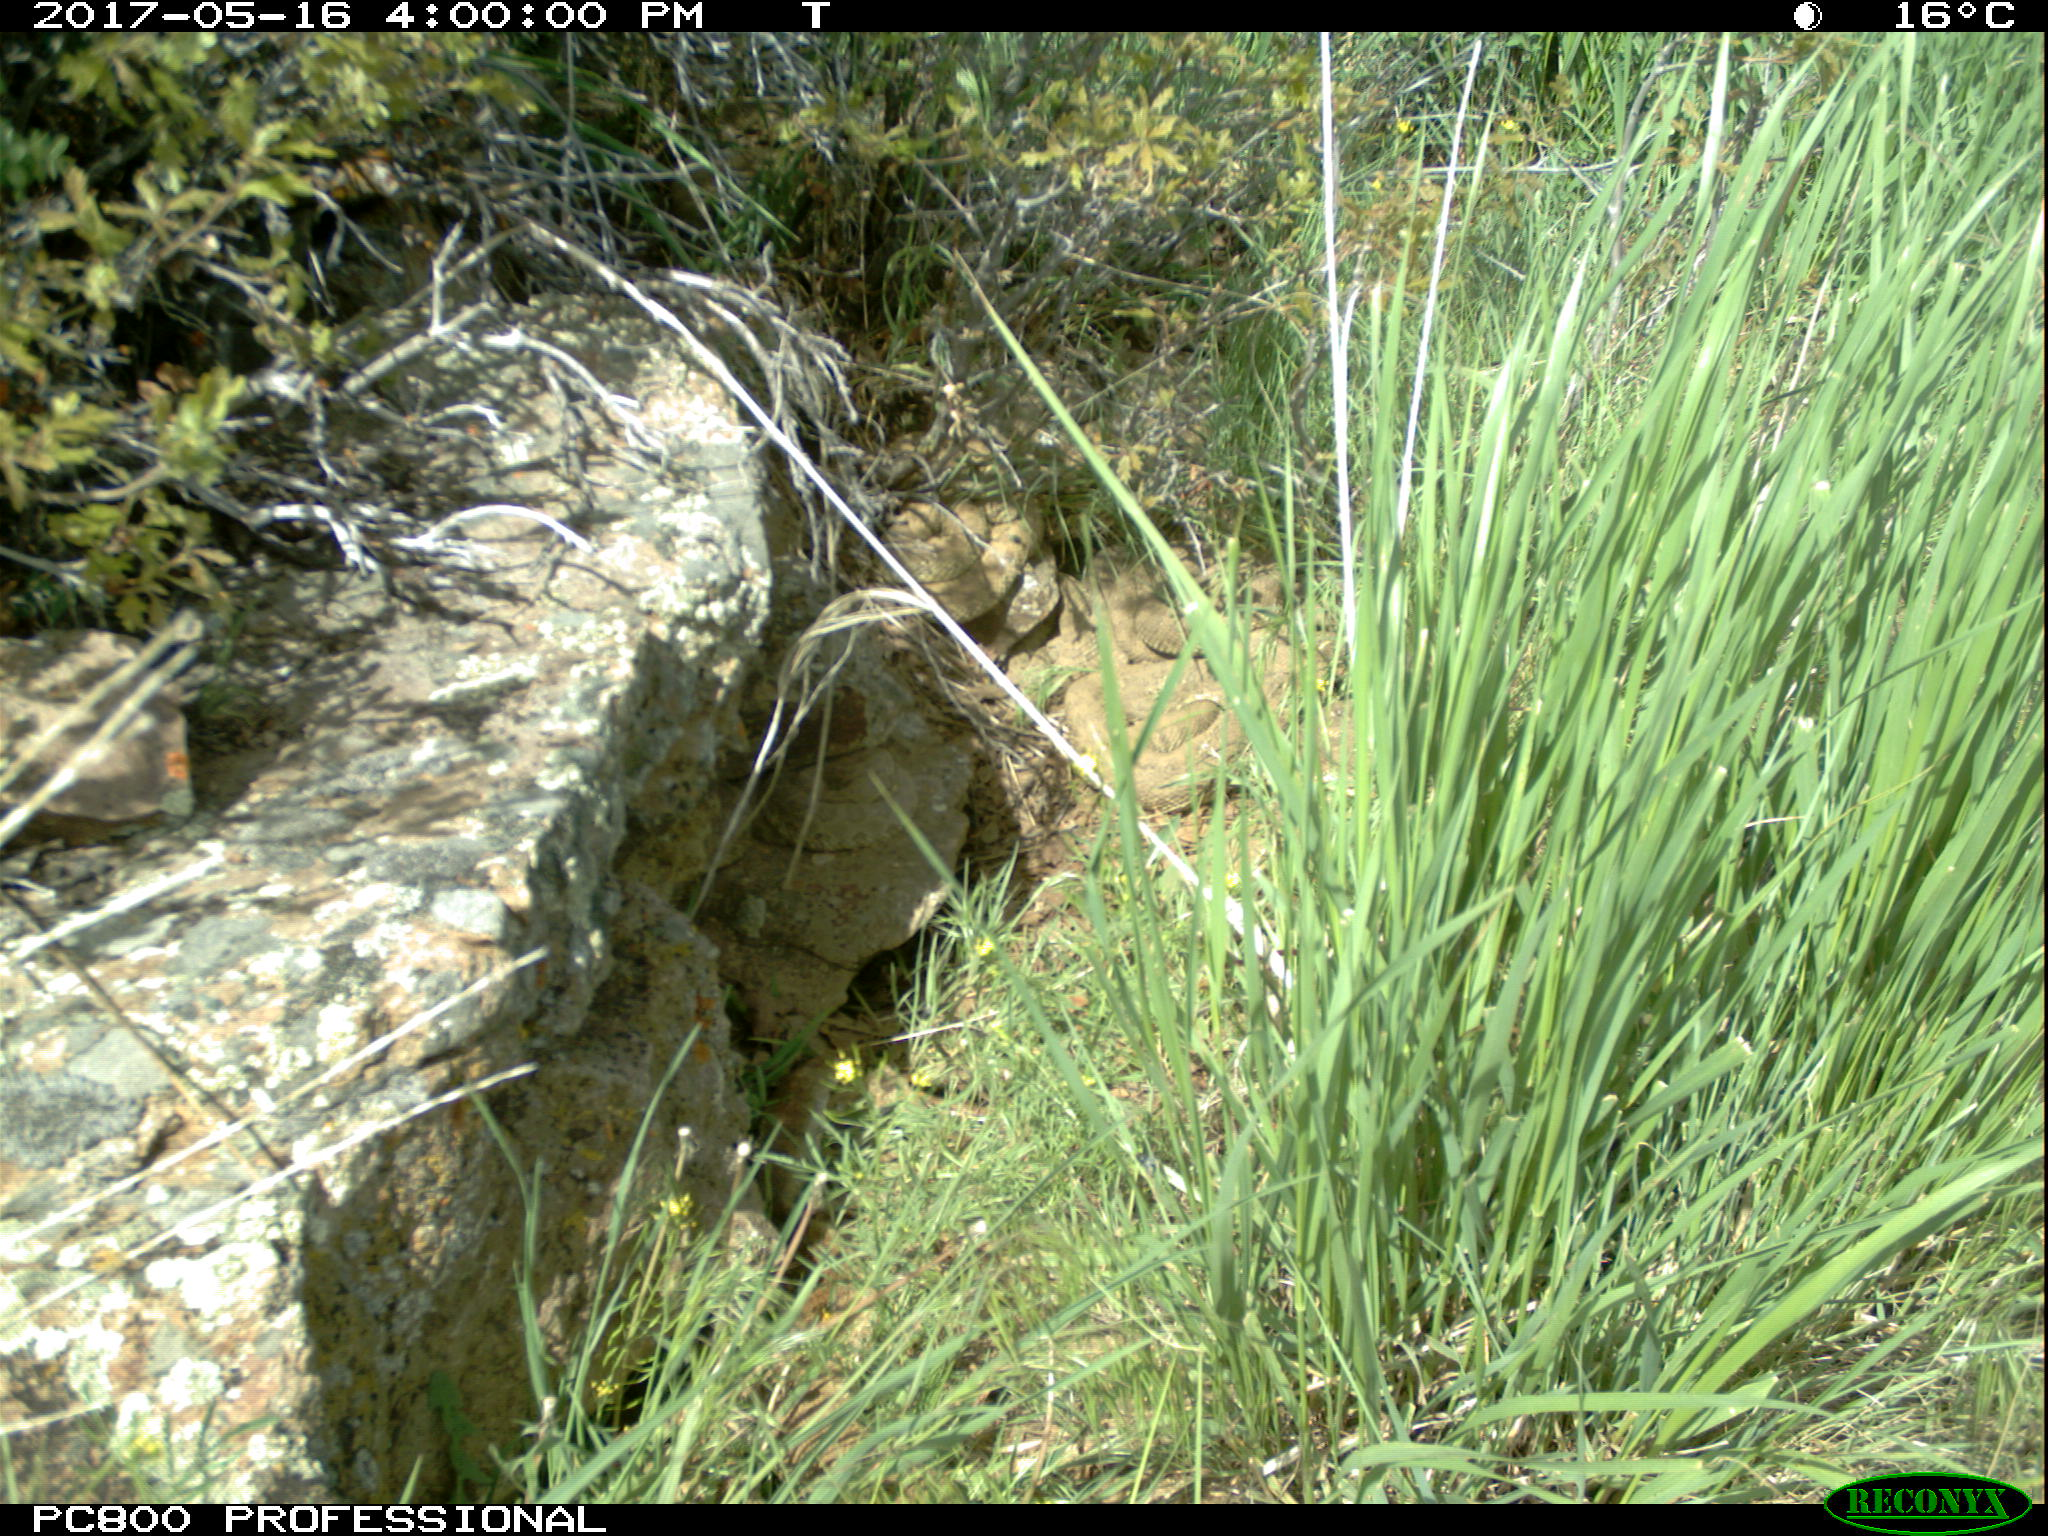snake: (1077, 662, 1235, 812), (1080, 552, 1298, 660), (876, 494, 1042, 624), (751, 745, 918, 852), (761, 1050, 832, 1252)
